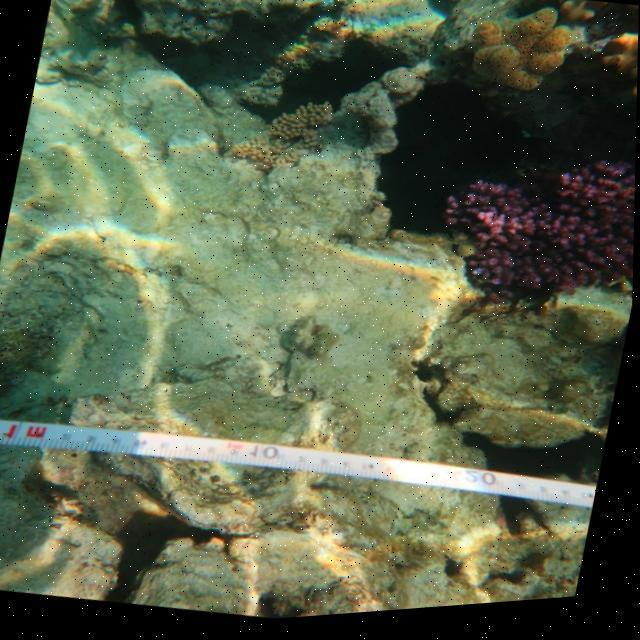Healthy Coral: (429, 135, 637, 337), (458, 0, 572, 102)
